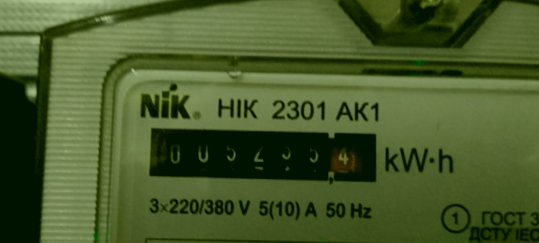0: (167, 139, 183, 165), (196, 137, 210, 162)
2: (251, 137, 265, 162)
3: (279, 135, 293, 160)
4: (336, 139, 351, 166)
5: (306, 136, 321, 163), (223, 136, 238, 162)
screen: (139, 118, 388, 189)
